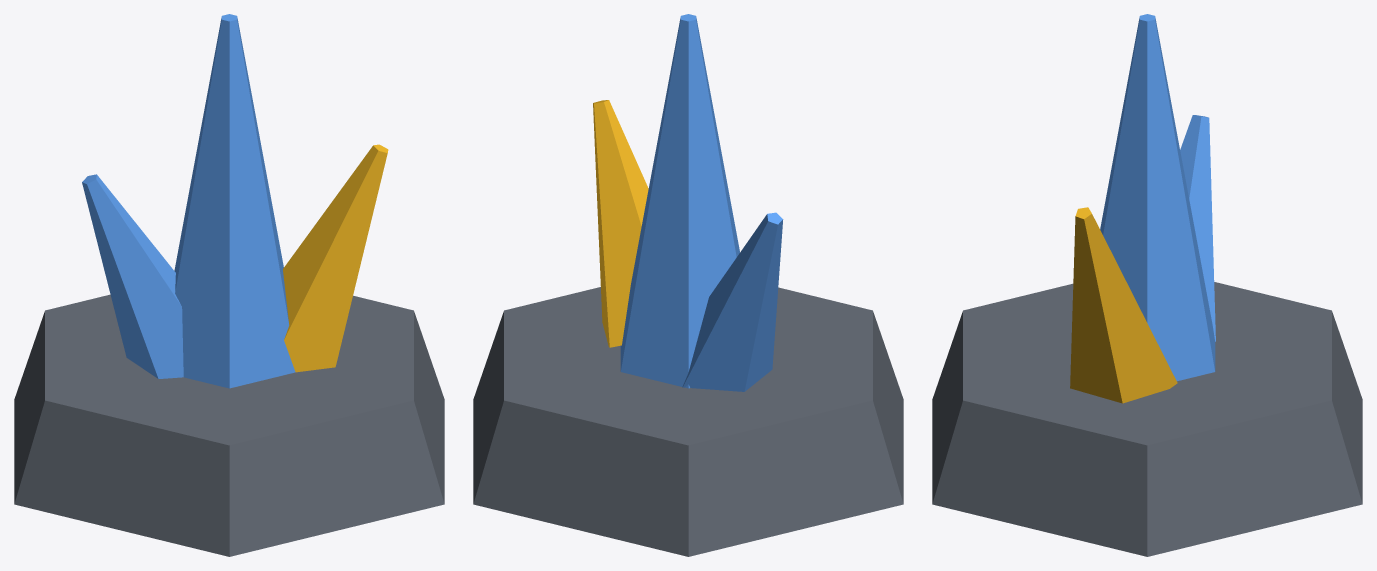
Rendered from mana_crystal.glb.
3 views of the same model, side by side, from view 1: azimuth 30°, elevation 25°; view 2: azimuth 150°, elevation 25°; view 3: azimuth 270°, elevation 25° (orthographic).
Parts seen in each view (by area): view 1: mana_crystal; view 2: mana_crystal; view 3: mana_crystal.
Part boxes in pixels (left/top/right/bottom): mana_crystal: left=14, top=14, right=444, bottom=556; mana_crystal: left=473, top=14, right=903, bottom=556; mana_crystal: left=932, top=14, right=1362, bottom=556.
Size of the model in its own units: 1.12 by 1.08 by 0.9699.
